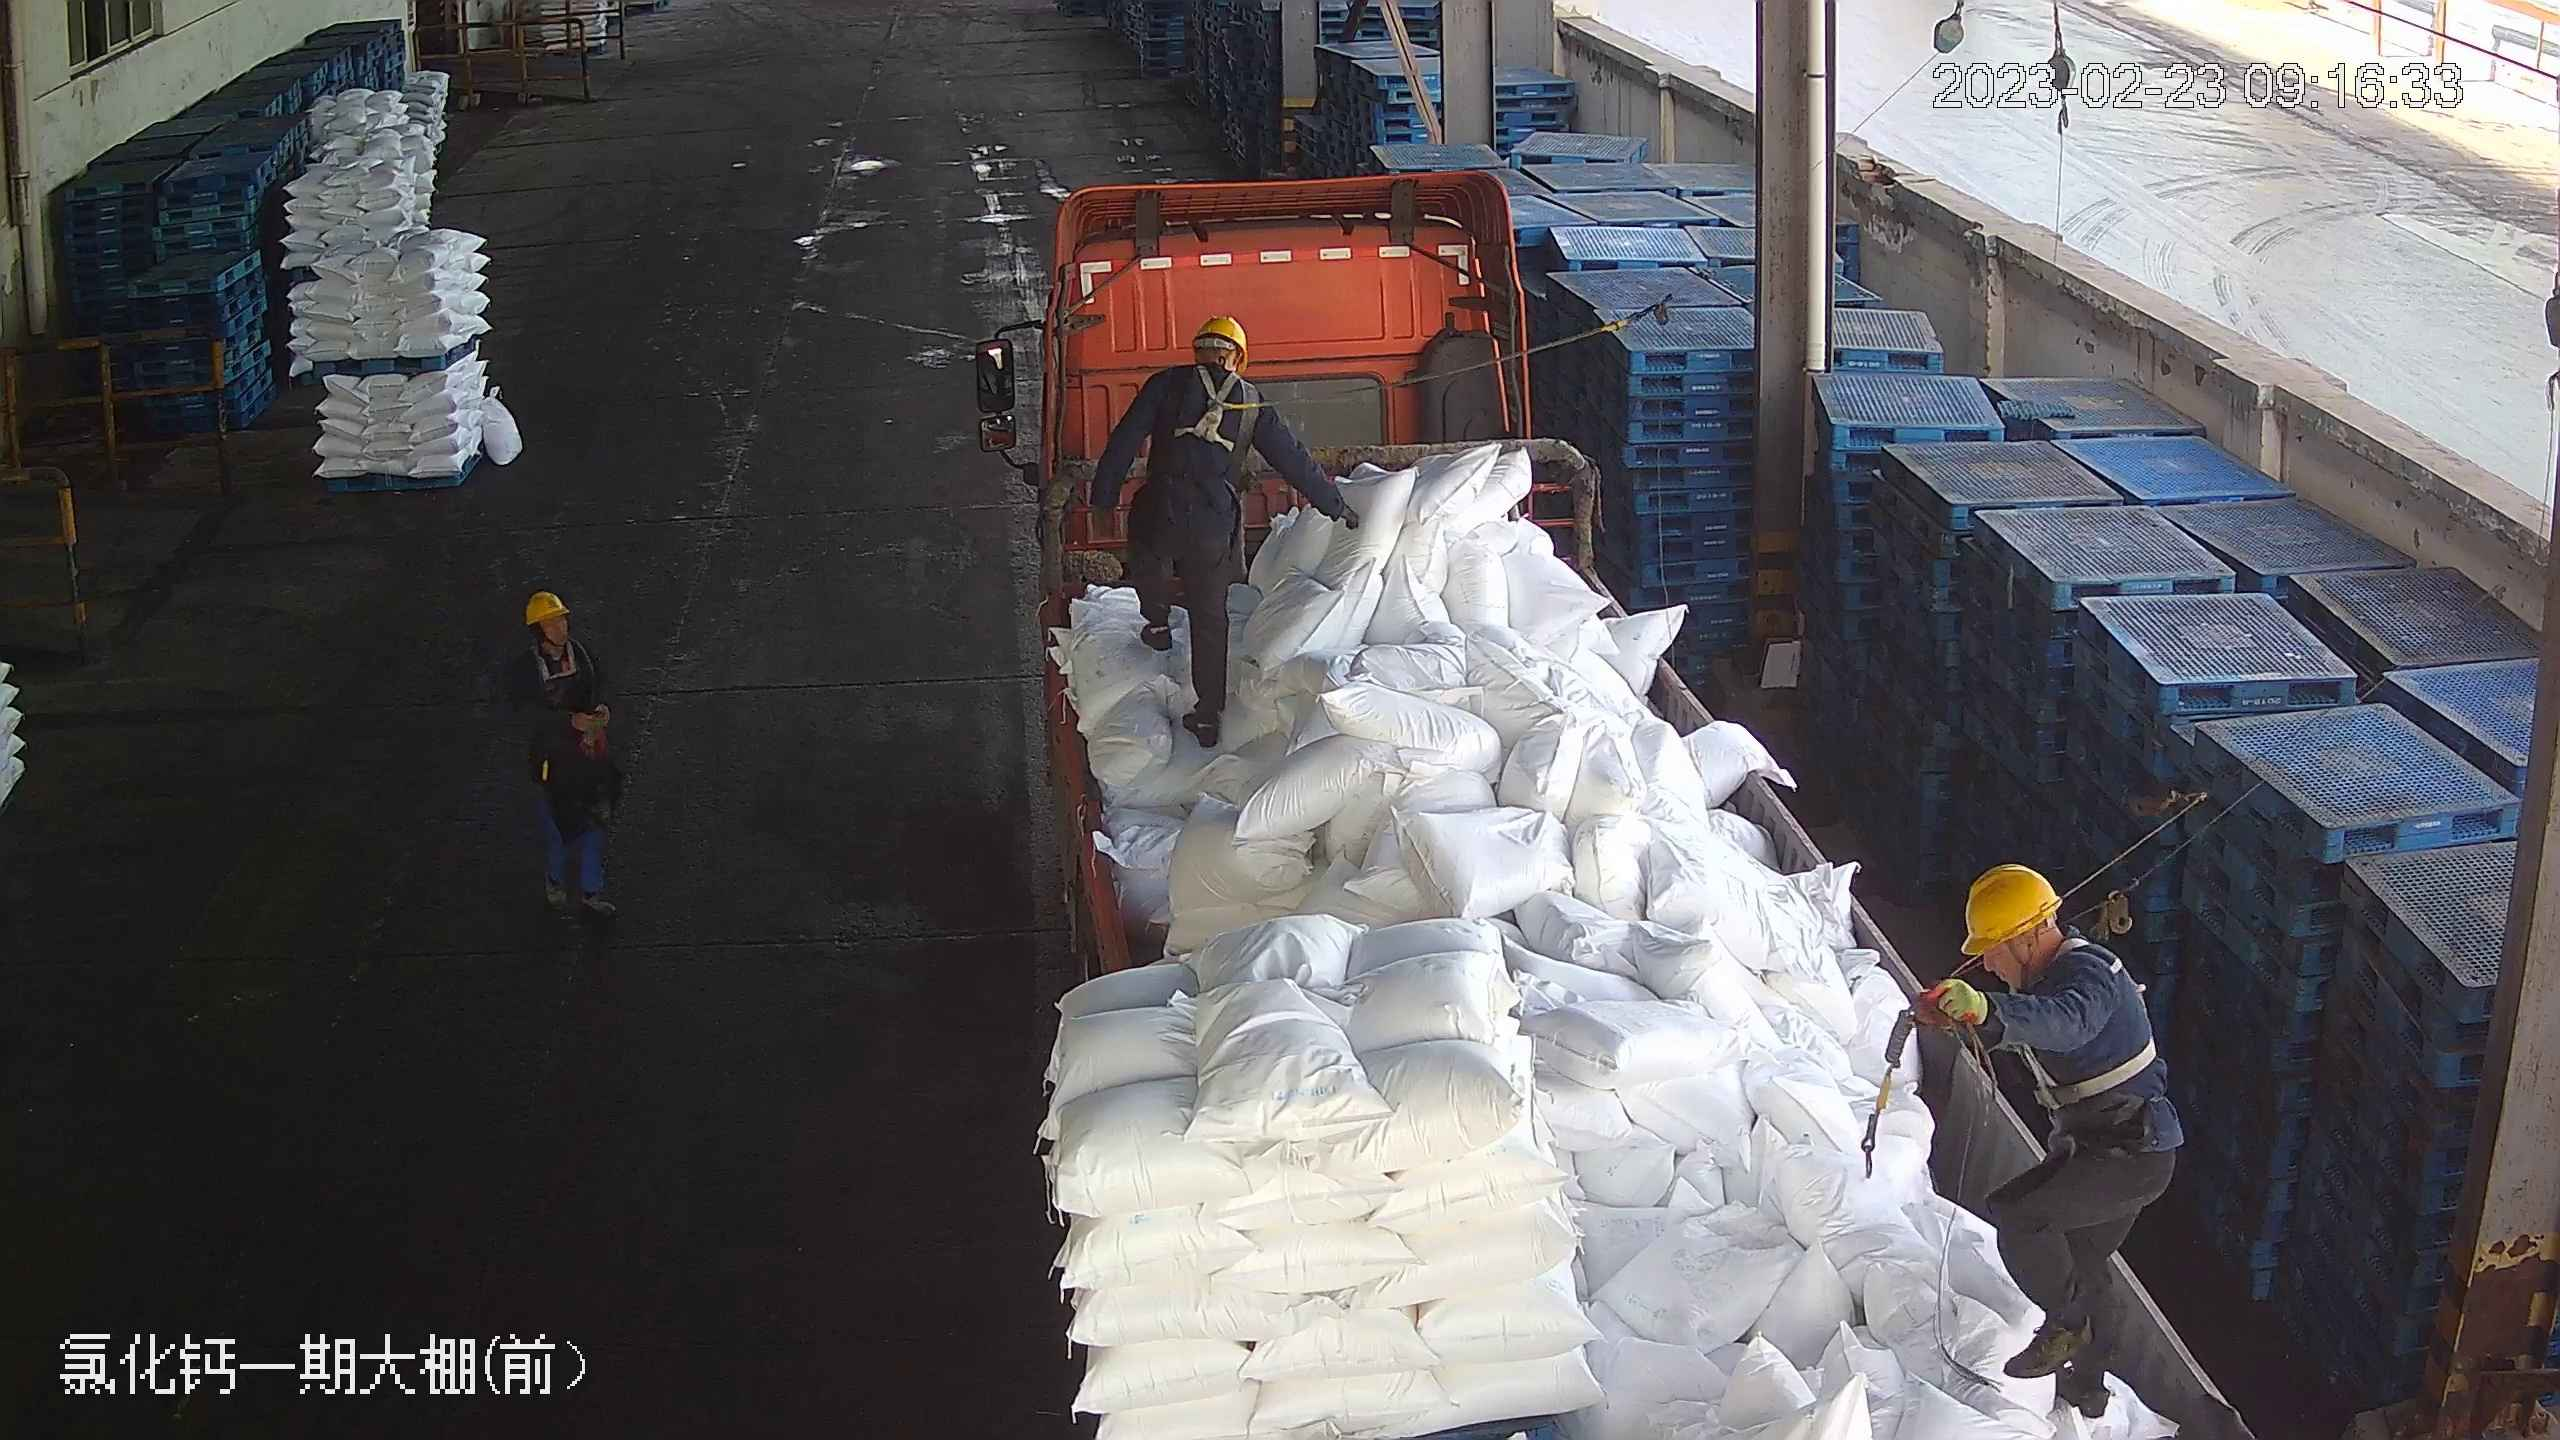belt: (2023, 947, 2157, 1106), (1162, 365, 1261, 455), (532, 636, 580, 681)
head: (1951, 864, 2131, 1047), (1143, 313, 1273, 428), (505, 588, 598, 688)
helmet: (1956, 860, 2065, 955), (1194, 311, 1252, 361), (521, 588, 569, 625)
people: (1889, 857, 2172, 1421), (1093, 306, 1295, 753), (500, 585, 631, 921)
truck: (983, 172, 2262, 1438)
